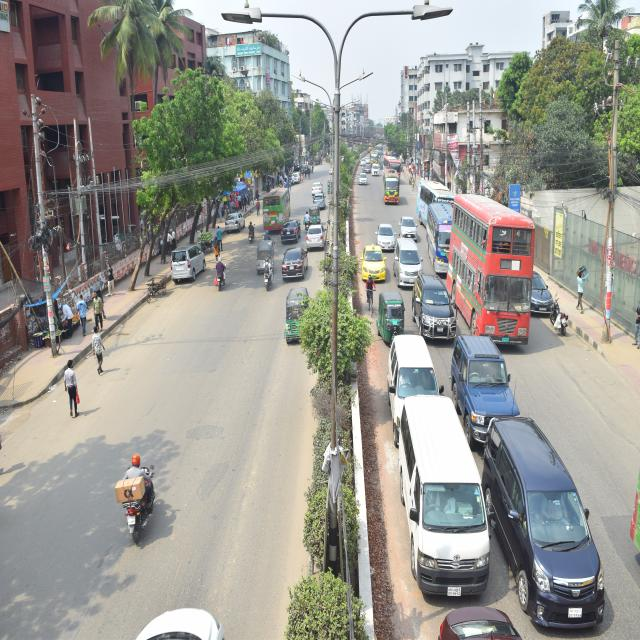bus: (450, 197, 538, 355), (422, 200, 468, 272), (414, 176, 462, 226), (260, 177, 295, 230), (384, 159, 398, 200)
car: (527, 262, 559, 318), (277, 243, 308, 283), (360, 244, 388, 284), (302, 214, 330, 254), (374, 215, 397, 254), (399, 212, 417, 246), (282, 218, 306, 243), (225, 208, 245, 236), (308, 176, 324, 196), (356, 167, 369, 183), (372, 164, 382, 178)
microbus: (482, 418, 611, 636), (395, 390, 491, 600), (446, 332, 540, 447), (385, 328, 445, 434), (404, 270, 461, 344), (412, 268, 459, 346), (394, 236, 432, 296), (167, 240, 209, 290)
motorbike: (106, 453, 164, 548), (547, 295, 577, 341), (211, 260, 234, 298), (260, 260, 278, 292), (245, 219, 256, 244)
